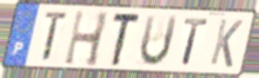H: (61, 8, 111, 68)
K: (207, 17, 244, 70)
T: (109, 11, 144, 68), (42, 9, 71, 64), (180, 17, 210, 67)
U: (138, 13, 180, 68)
